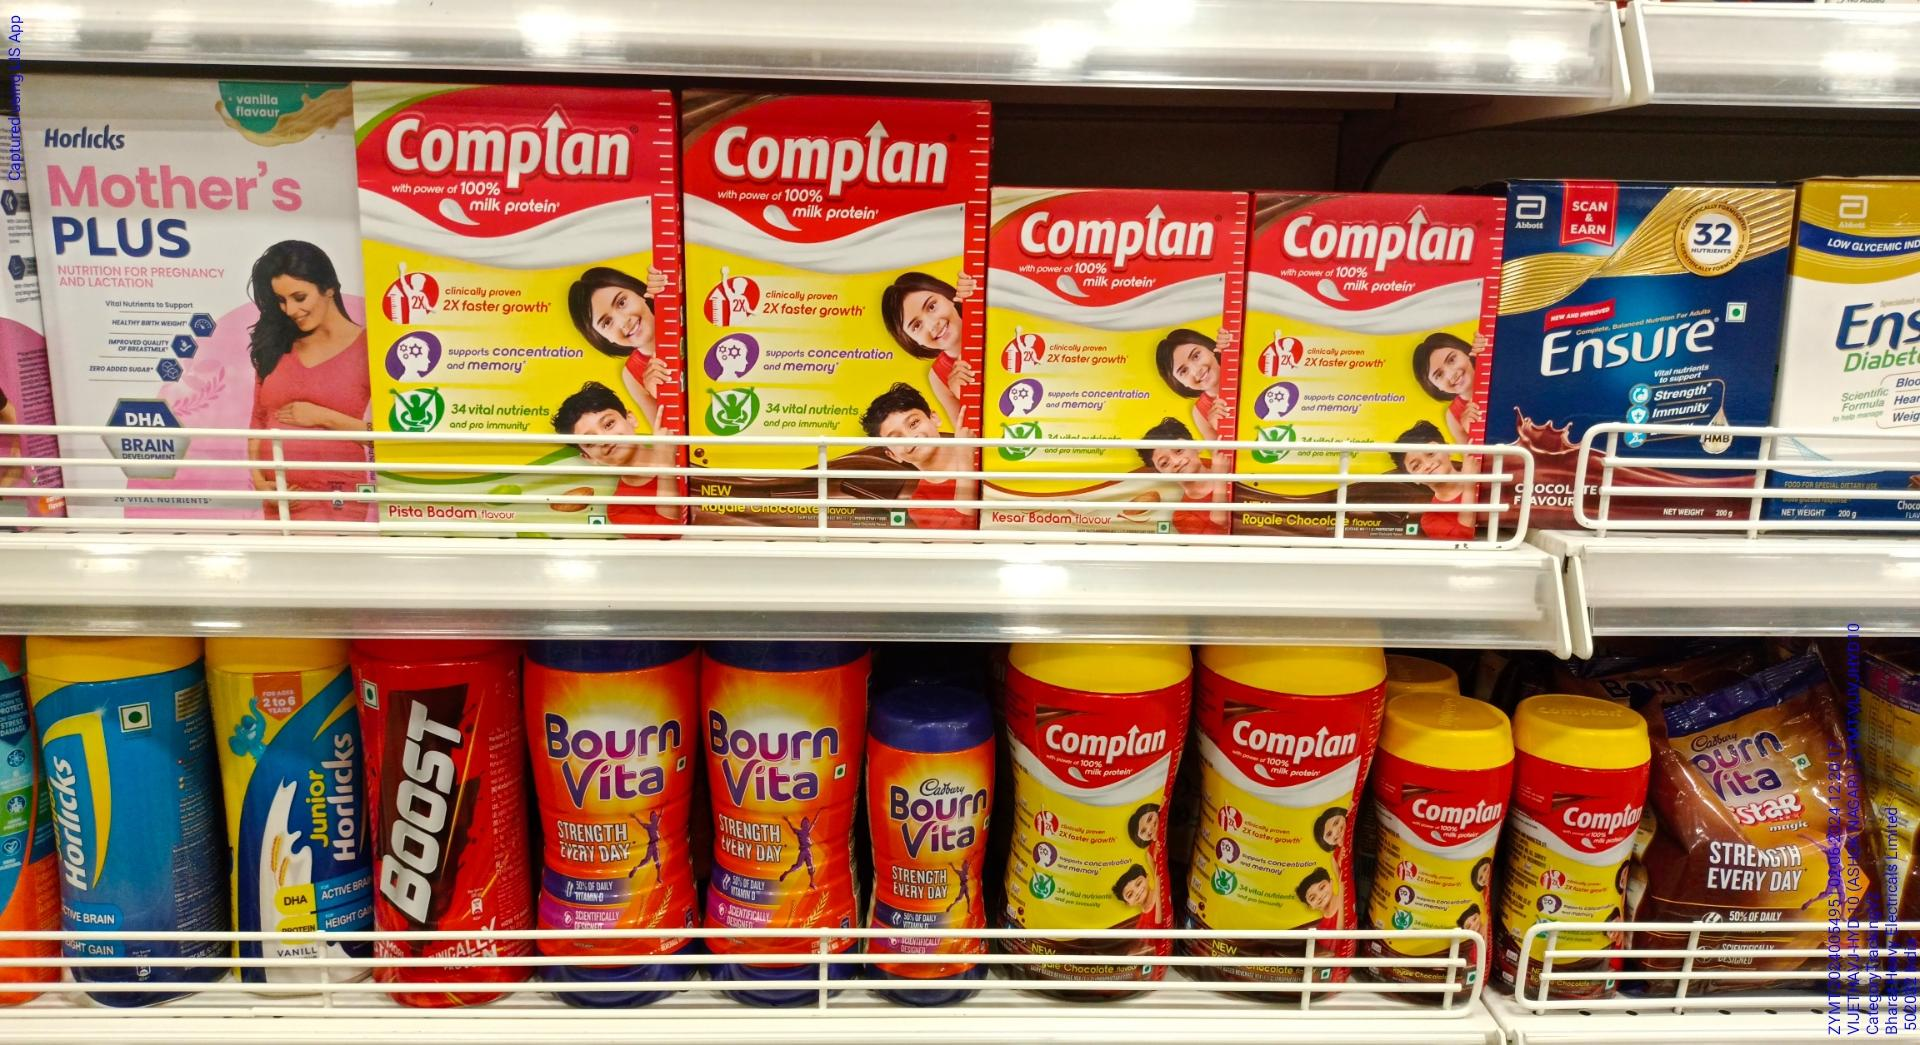HORLICKS_JUNIOR_VANILLA_500_GM_JAR: (207, 636, 368, 992)
